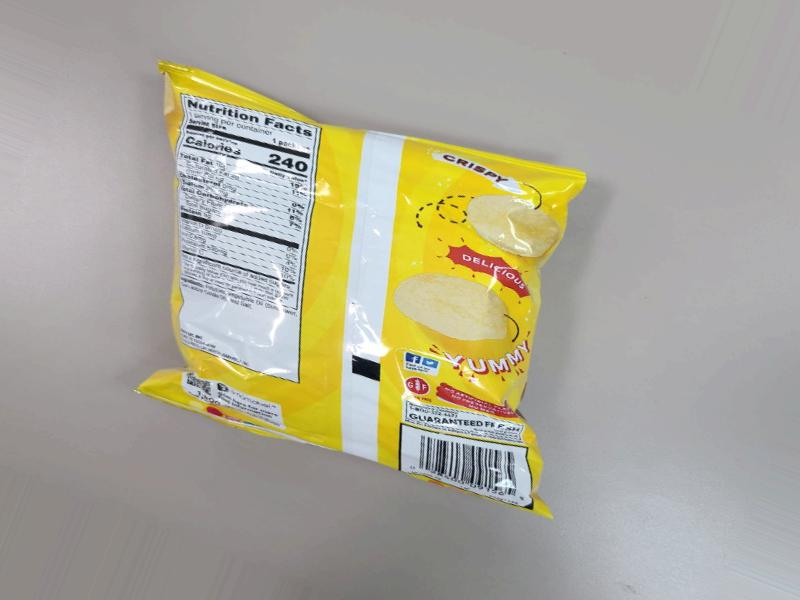lays: (229, 38, 571, 553)
